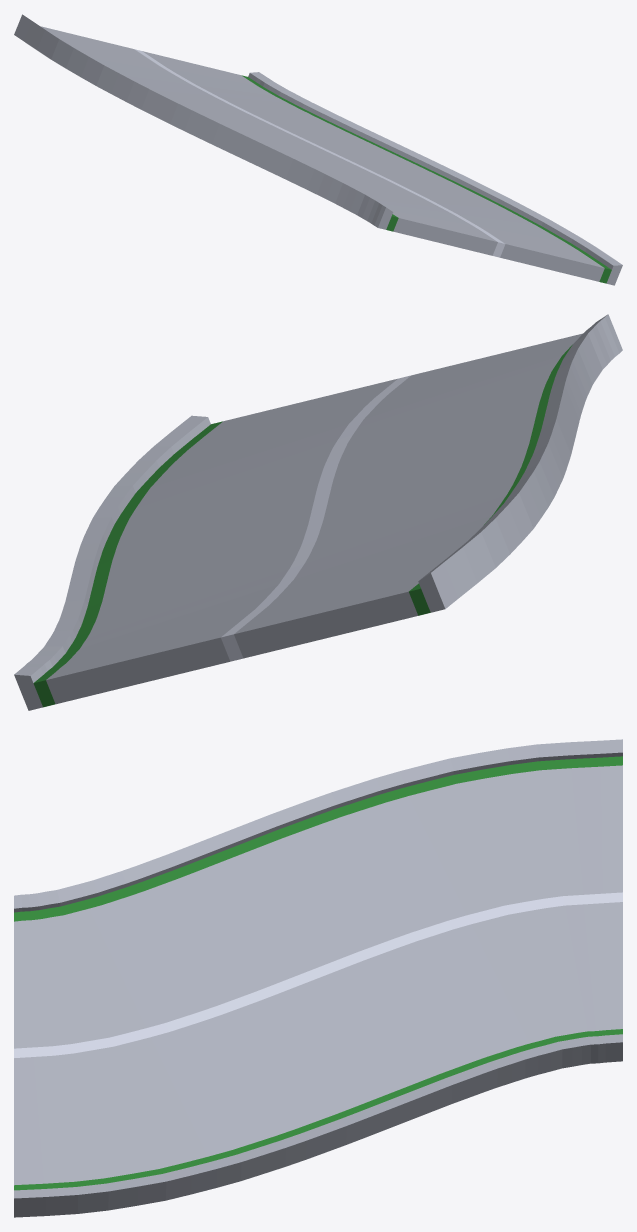
Rendered from tilt_chicane_right.glb.
3 renders of one model, top to bottom at view 1: azimuth 30°, elevation 25°; view 2: azimuth 150°, elevation 25°; view 3: azimuth 270°, elevation 25°, orthographic. The views are drawn at different scales.
Visible parts, largest first — view 1: tilt_chicane_right; view 2: tilt_chicane_right; view 3: tilt_chicane_right.
Part boxes in pixels (<box>): tilt_chicane_right: <box>14,14,622,285</box>; tilt_chicane_right: <box>14,314,622,710</box>; tilt_chicane_right: <box>14,739,622,1217</box>.
Bounding box in the file's own units: 28.82 × 13.84 × 30.8.
